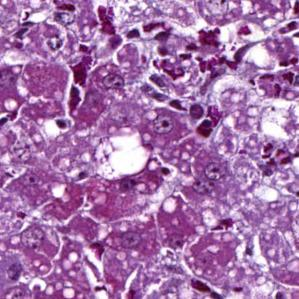ballooning: (89, 132, 149, 181)
